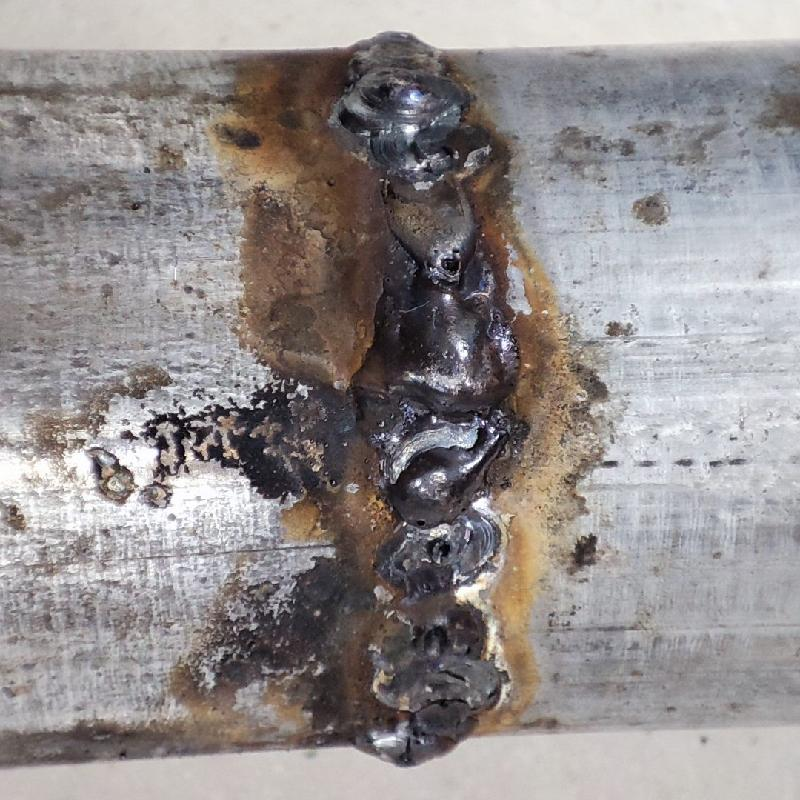Not_fully_soldered: (373, 517, 513, 719), (366, 133, 504, 294)
Surface_pores: (429, 240, 478, 289)
Weld: (355, 293, 523, 533)
wrong_size: (338, 30, 468, 132)
